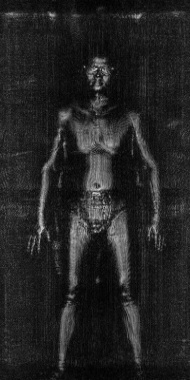gun: (51, 237, 64, 278)
